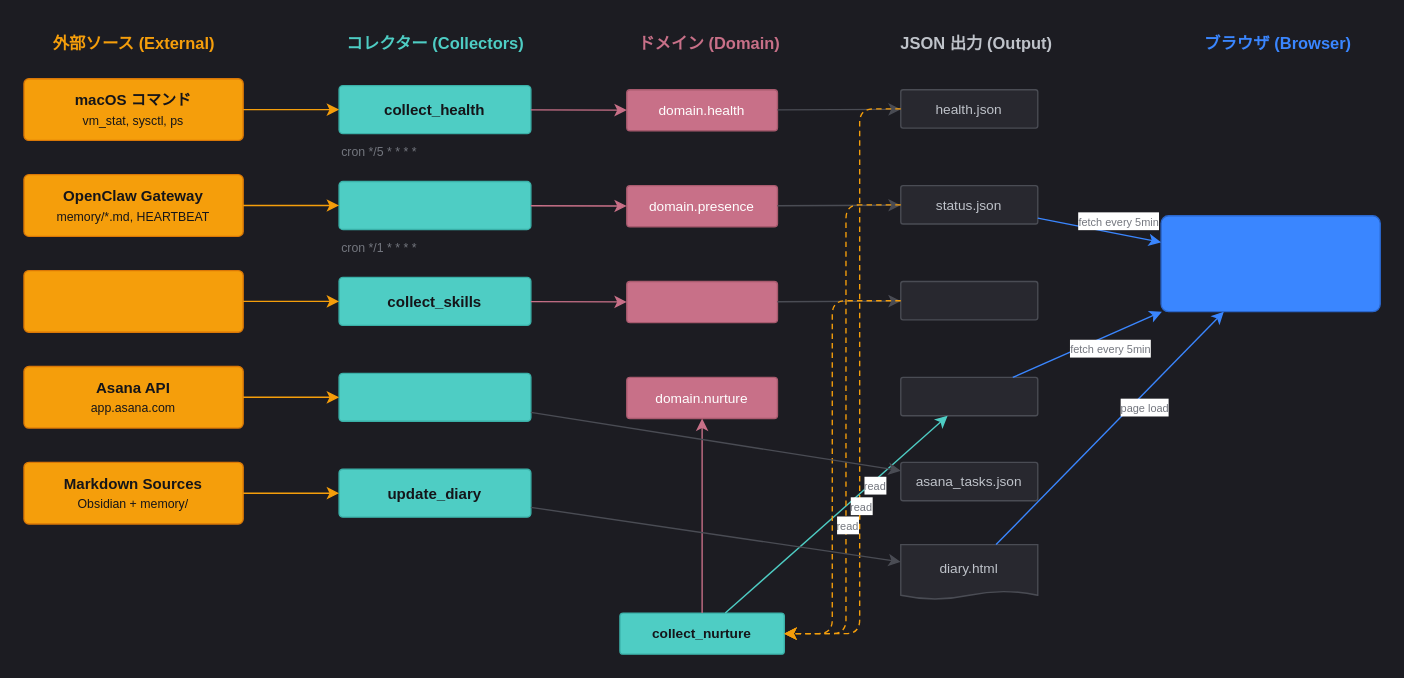
This 1404x678 diagram has some shape labels left out. Each missing label, with the centre of its shape:
"asana_api" goes at point 434,396.
"Browser app.js → DOM 更新" goes at point 1270,263.
"Claude Plugins ~/.claude/plugins/" goes at point 133,300.
"collect_status" goes at point 434,204.
"domain.skills" goes at point 701,301.
"nurture.json" goes at point 968,396.
"skills.json" goes at point 968,300.
